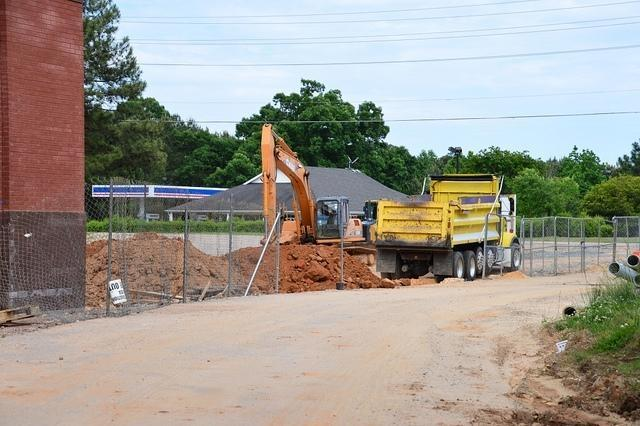truck: (372, 174, 522, 284)
